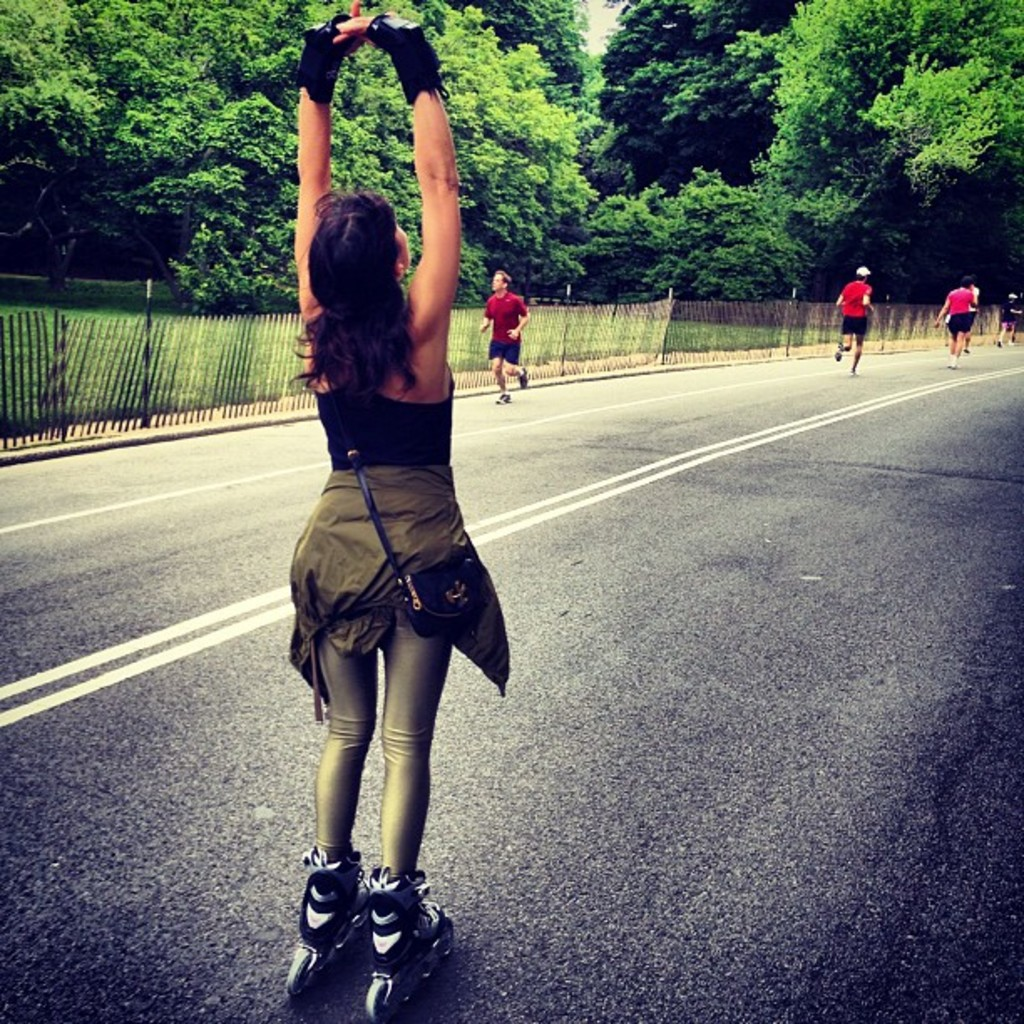Tree: (0, 0, 1024, 320)
